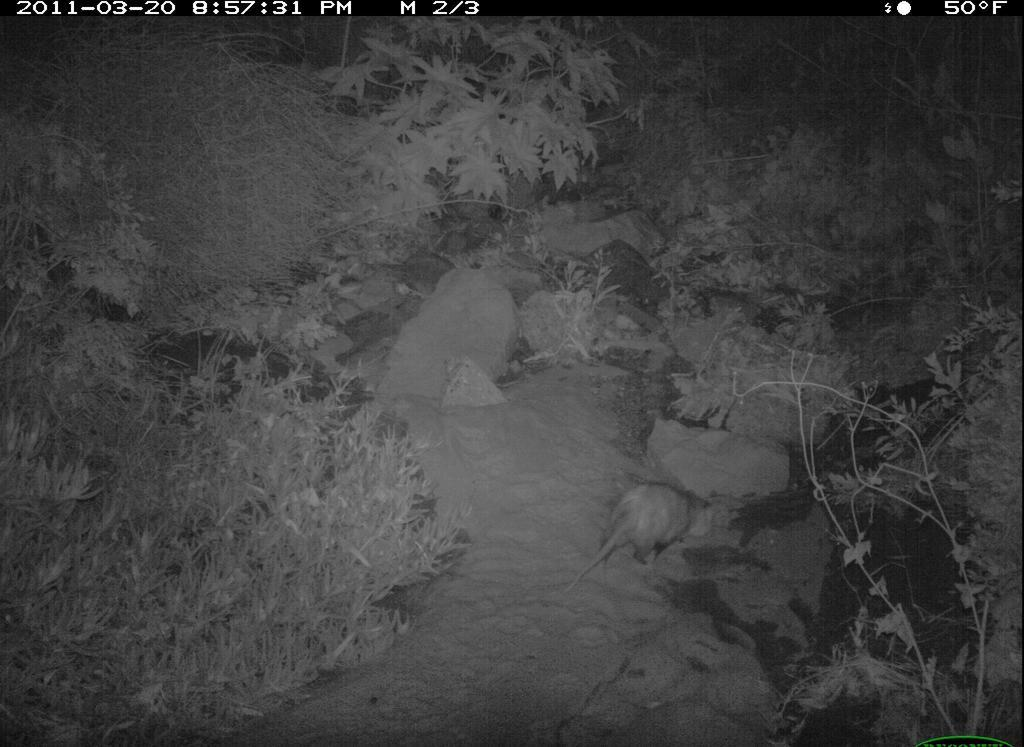opossum: (569, 470, 706, 602)
